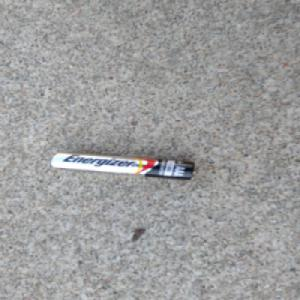Battery: (46, 151, 198, 182)
